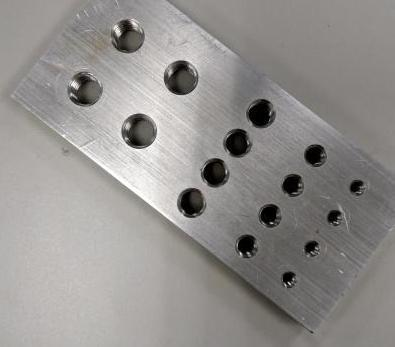hole: (161, 58, 200, 96), (120, 111, 159, 149), (66, 69, 104, 106), (109, 17, 146, 54), (175, 187, 208, 219), (199, 156, 231, 188), (245, 97, 277, 128), (222, 127, 253, 158), (234, 233, 259, 259), (303, 143, 328, 167), (258, 203, 282, 228), (281, 173, 305, 197), (279, 270, 298, 289), (325, 208, 343, 227), (303, 239, 321, 257), (348, 179, 366, 196)
